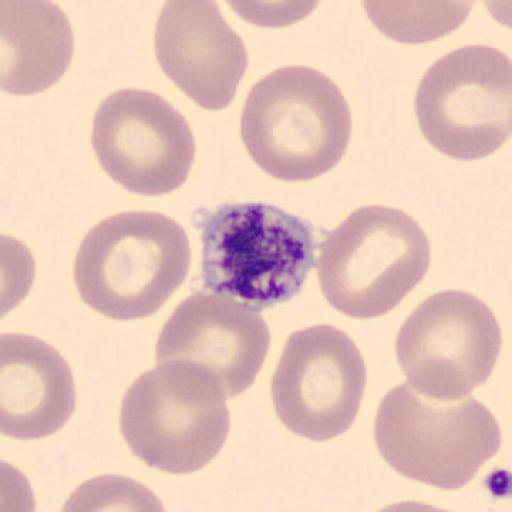Platelet: (195, 197, 320, 309)
RBC: (372, 380, 504, 492), (238, 62, 355, 185), (71, 207, 195, 323), (314, 202, 432, 322), (118, 358, 232, 476), (154, 287, 272, 401), (393, 286, 503, 402), (269, 321, 368, 445), (412, 42, 512, 163), (89, 86, 197, 198), (152, 1, 250, 112), (2, 330, 78, 442), (0, 0, 76, 97), (359, 0, 477, 45), (57, 471, 171, 512), (2, 230, 38, 319), (222, 1, 326, 30), (2, 457, 38, 512), (353, 496, 472, 512), (482, 0, 512, 32)
